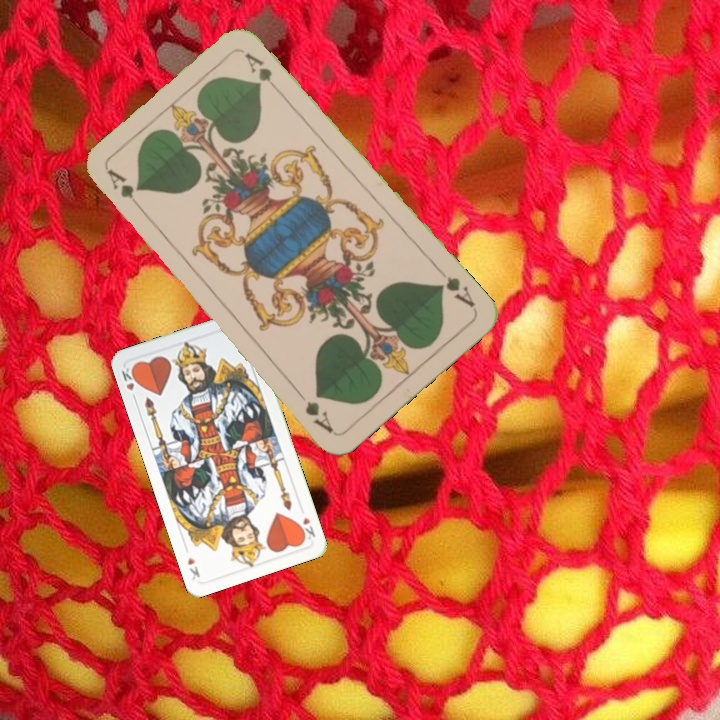GA: (103, 165, 147, 215), (434, 264, 478, 311)
HK: (117, 363, 142, 403), (295, 513, 318, 545)
